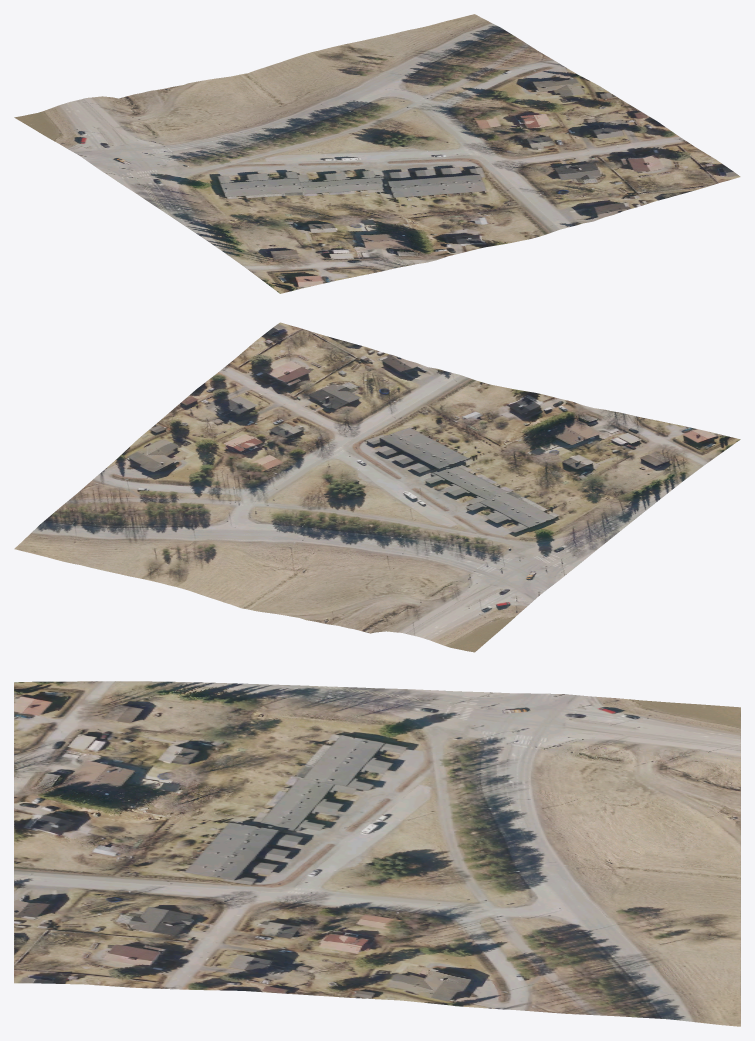
The model's file is CM_Terrain_24491892_6818565.fbx.
3 views of the same model, one above another, from view 1: azimuth 30°, elevation 25°; view 2: azimuth 150°, elevation 25°; view 3: azimuth 270°, elevation 25° (orthographic). The views are drawn at different scales.
Visible parts, largest first — view 1: CM_Terrain_24491892_6818565_LOD0; view 2: CM_Terrain_24491892_6818565_LOD0; view 3: CM_Terrain_24491892_6818565_LOD0.
Boxes of the visible parts, bbox=[...] form: CM_Terrain_24491892_6818565_LOD0: bbox=[14, 14, 740, 293]; CM_Terrain_24491892_6818565_LOD0: bbox=[14, 322, 740, 652]; CM_Terrain_24491892_6818565_LOD0: bbox=[14, 681, 740, 1026].
Size of what is drawn, in the model's own units: 205 by 15.17 by 205.
